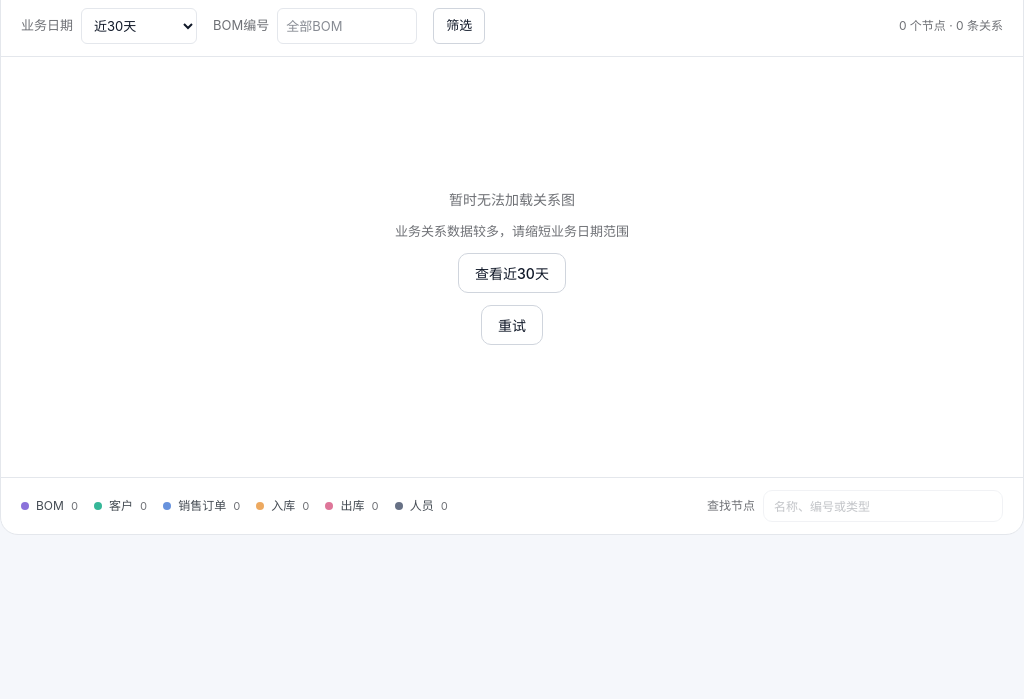
Scenario: 请求失败显示重试，成功后可恢复关系图
Expected: the message shows "暂时无法加载关系图", [449,191,575,208]
Expected: the message shows "请缩短业务日期范围", [395,223,629,239]
Step 1. Click the button "重试" → click(512, 325), box [481,305,543,345]
(page scrolled)
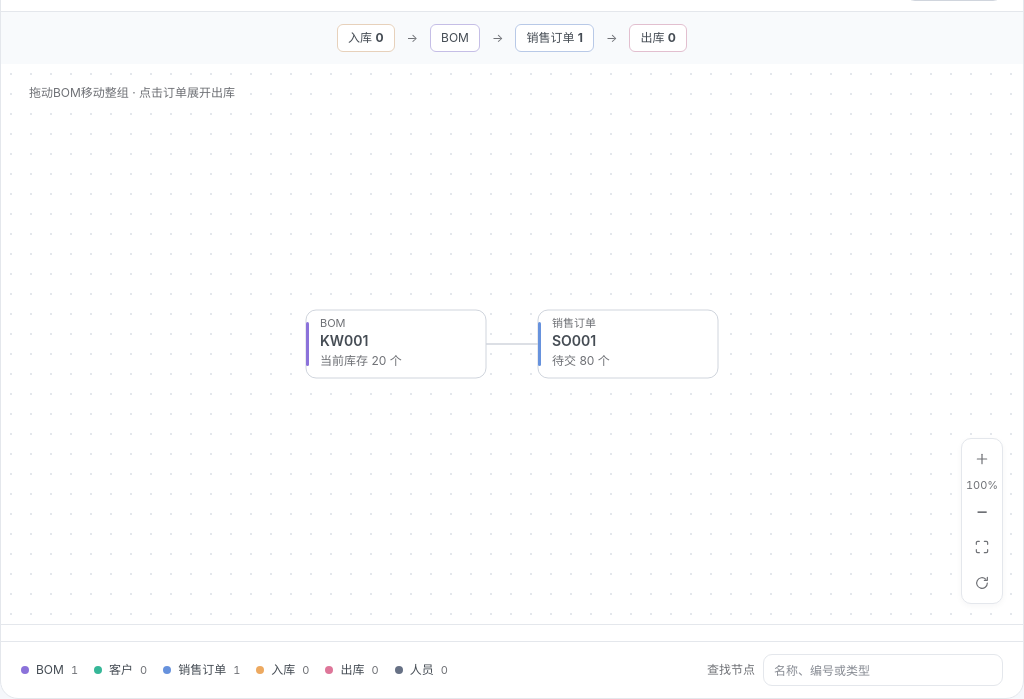
Expected: the message "暂时无法加载关系图 业务关系数据较多，请缩短业务日期范围 查看近30天 重试" is gone
Expected: the dropdown labelled "查找节点" is enabled, [763,654,1003,686]
